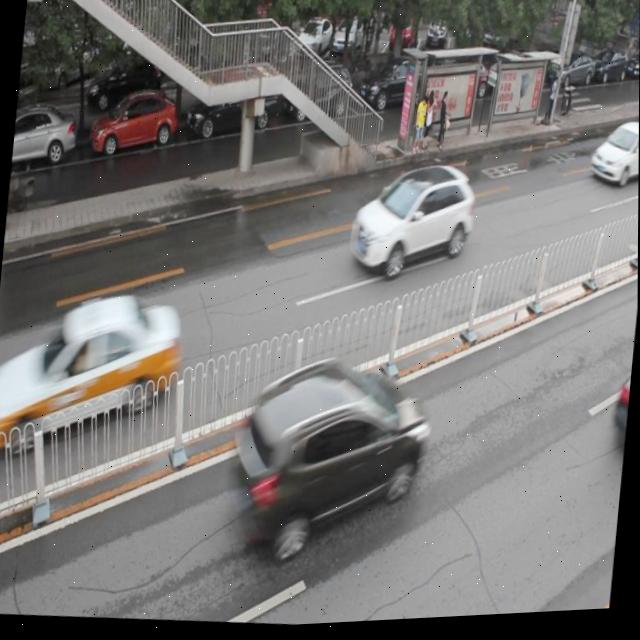car: (225, 349, 435, 570), (5, 286, 184, 467), (345, 162, 478, 287), (182, 69, 279, 144), (87, 87, 179, 159), (354, 53, 435, 118), (281, 62, 355, 130), (13, 102, 77, 169), (588, 123, 639, 198)
